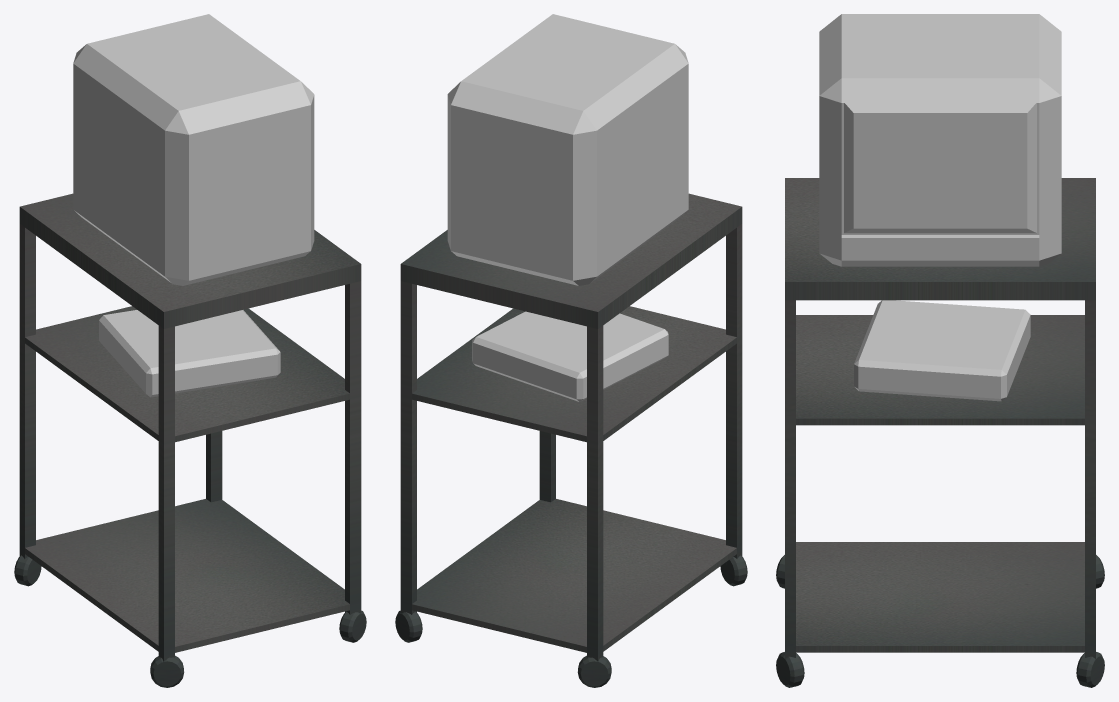
The model's file is tvwheels1.fbx.
3 views of the same model, side by side, from view 1: azimuth 30°, elevation 25°; view 2: azimuth 150°, elevation 25°; view 3: azimuth 270°, elevation 25° (orthographic). The views are drawn at different scales.
Parts seen in each view (by area): view 1: TVstand, TV; view 2: TVstand, TV; view 3: TVstand, TV.
Boxes of the visible parts, x1,y1,x2,y2 form: TVstand: (14,193,366,687); TV: (73,14,314,397); TVstand: (395,193,747,687); TV: (447,14,688,401); TVstand: (776,178,1104,687); TV: (819,14,1061,401).
Bounding box in the file's own units: 2.52 × 6.14 × 3.09.
